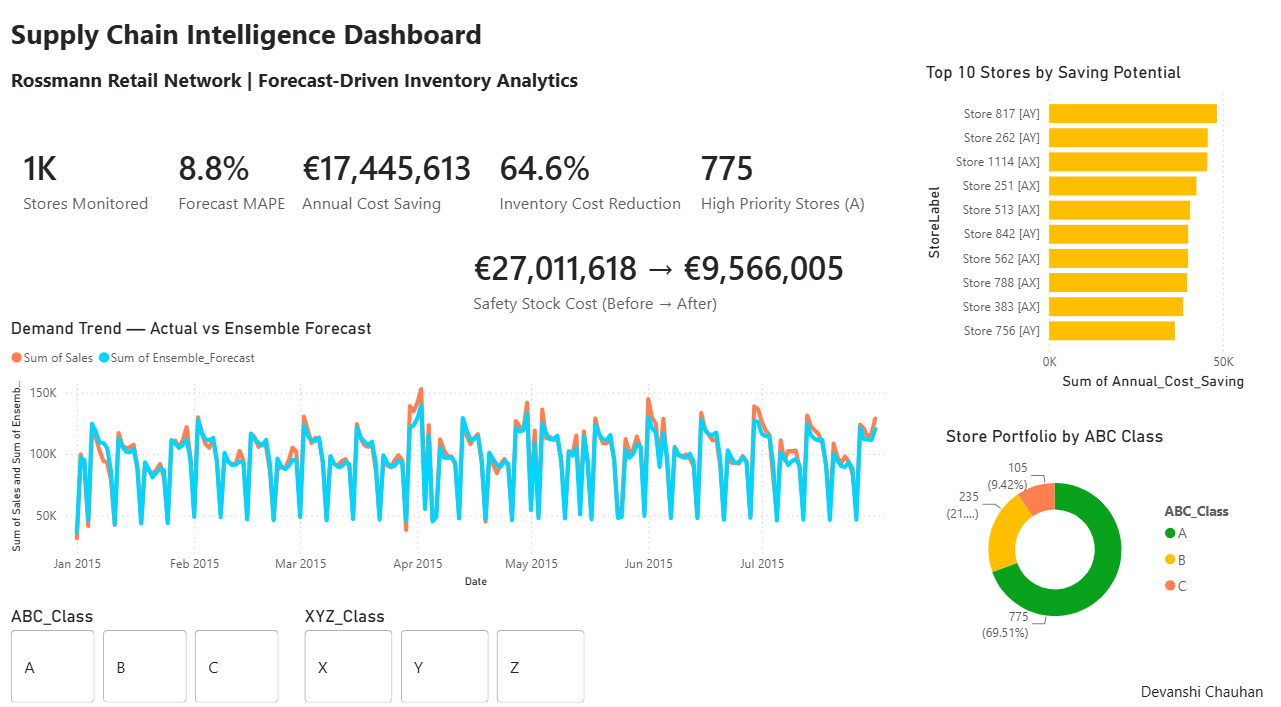

What the dashboard file says about the page in this screenshot:
{"tool":"powerbi","page":{"name":"Executive Supply Chain Overview","canvas":[1280,720],"ordinal":0},"visuals":[{"type":"textbox","box":[18.5,25.6,480.7,51.2],"z":0},{"type":"textbox","box":[18.5,76.8,574.6,39.8],"z":1000},{"type":"textbox","box":[1123.8,677.4,134.5,31.8],"z":2000},{"type":"cardVisual","fields":{"Data":["Max(pb_kpi_summary.Total_Stores)"]},"box":[18.8,127,177.5,129.8],"z":3000},{"type":"cardVisual","fields":{"Data":["pb_kpi_summary.Overall MAPE"]},"box":[170.2,127,177.5,129.8],"z":4000},{"type":"cardVisual","fields":{"Data":["pb_kpi_summary.Annual Saving"]},"box":[291.4,127,215,129.8],"z":5000},{"type":"cardVisual","fields":{"Data":["pb_kpi_summary.Saving Pct"]},"box":[484.8,127,215,129.8],"z":6000},{"type":"cardVisual","fields":{"Data":["Max(pb_kpi_summary.A_Class_Stores)"]},"box":[681,127,215,129.8],"z":7000},{"type":"cardVisual","fields":{"Data":["pb_kpi_summary.SS Cost Comparison"]},"box":[458.2,239.1,399.7,100.9],"z":8000},{"type":"lineChart","title":"Demand Trend — Actual vs Ensemble Forecast","fields":{"Category":["pb_forecast_comparison.Date"],"Y":["Sum(pb_forecast_comparison.Sales)","Sum(pb_forecast_comparison.Ensemble_Forecast)"]},"box":[18.7,327.5,877.8,268.9],"z":9000},{"type":"barChart","title":"Top 10 Stores by Saving Potential","fields":{"Category":["pb_top10_opportunities.StoreLabel"],"Y":["Sum(pb_top10_opportunities.Annual_Cost_Saving)"]},"box":[913.5,77,344.8,325.3],"z":10000},{"type":"donutChart","title":"Store Portfolio by ABC Class","fields":{"Category":["pb_inventory_policy.ABC_Class"],"Y":["Count(pb_inventory_policy.Store)"]},"box":[933,432.9,305.7,223.8],"z":11000},{"type":"advancedSlicerVisual","fields":{"Values":["pb_inventory_policy.ABC_Class"]},"box":[18.7,608.9,272.7,100.9],"z":12000},{"type":"advancedSlicerVisual","fields":{"Values":["pb_inventory_policy.XYZ_Class"]},"box":[306.3,608.9,286.4,100.9],"z":13000}]}

Visuals, with their boxes in screenshot pixels (x1, y1, x2, y2), scaled from the page's 1280x720 canvas onto the 1281x707 screenshot:
textbox: {"left": 19, "top": 25, "right": 500, "bottom": 75}
textbox: {"left": 19, "top": 75, "right": 594, "bottom": 114}
textbox: {"left": 1125, "top": 665, "right": 1259, "bottom": 696}
cardVisual - Max(pb_kpi_summary.Total_Stores): {"left": 19, "top": 125, "right": 196, "bottom": 252}
cardVisual - pb_kpi_summary.Overall MAPE: {"left": 170, "top": 125, "right": 348, "bottom": 252}
cardVisual - pb_kpi_summary.Annual Saving: {"left": 292, "top": 125, "right": 507, "bottom": 252}
cardVisual - pb_kpi_summary.Saving Pct: {"left": 485, "top": 125, "right": 700, "bottom": 252}
cardVisual - Max(pb_kpi_summary.A_Class_Stores): {"left": 682, "top": 125, "right": 897, "bottom": 252}
cardVisual - pb_kpi_summary.SS Cost Comparison: {"left": 459, "top": 235, "right": 859, "bottom": 334}
"Demand Trend — Actual vs Ensemble Forecast" lineChart: {"left": 19, "top": 322, "right": 897, "bottom": 586}
"Top 10 Stores by Saving Potential" barChart: {"left": 914, "top": 76, "right": 1259, "bottom": 395}
"Store Portfolio by ABC Class" donutChart: {"left": 934, "top": 425, "right": 1240, "bottom": 645}
advancedSlicerVisual - pb_inventory_policy.ABC_Class: {"left": 19, "top": 598, "right": 292, "bottom": 697}
advancedSlicerVisual - pb_inventory_policy.XYZ_Class: {"left": 307, "top": 598, "right": 593, "bottom": 697}
